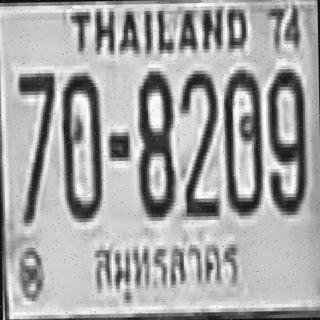N00: (60, 69, 100, 219), (221, 67, 261, 214)
N02: (178, 68, 218, 215)
N07: (17, 70, 55, 223)
N08: (134, 69, 174, 216)
N09: (266, 65, 306, 212)
P58: (87, 235, 245, 308)
